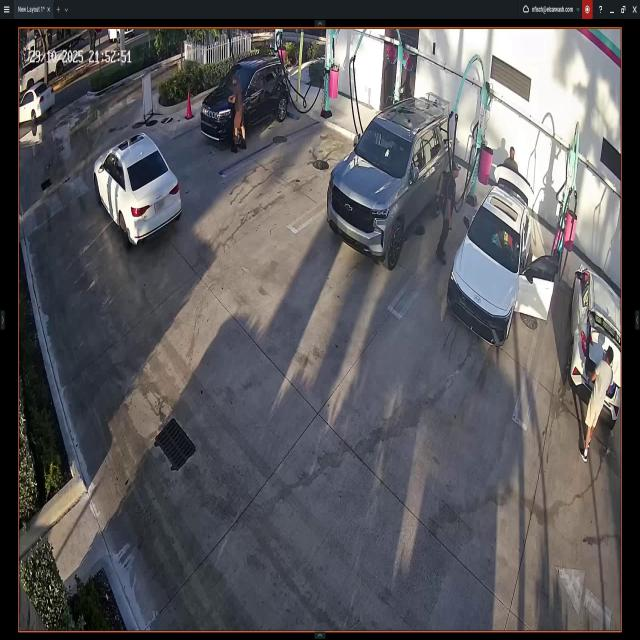Car: (326, 96, 452, 264), (450, 174, 550, 341), (96, 131, 180, 245), (567, 264, 621, 424), (201, 57, 289, 139), (19, 83, 55, 125)
